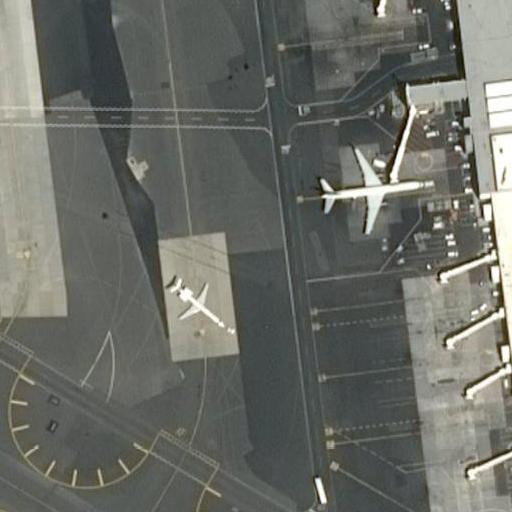Aircraft: (313, 145, 427, 236), (159, 266, 233, 337)
